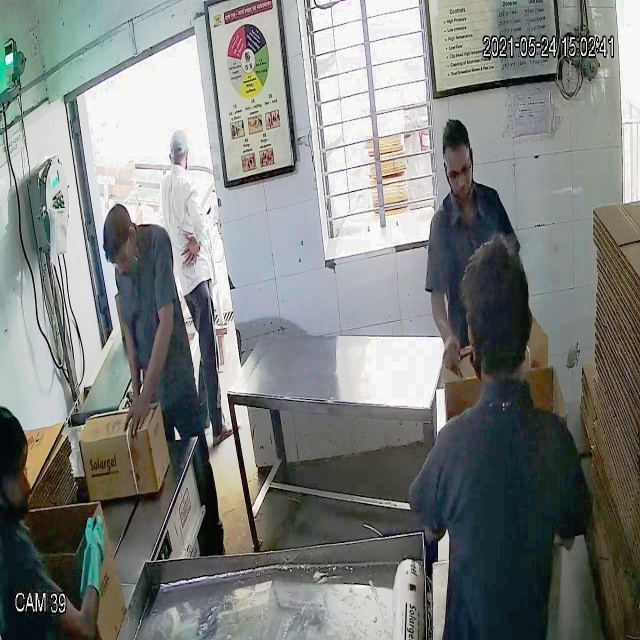Gafas: (443, 156, 475, 190)
